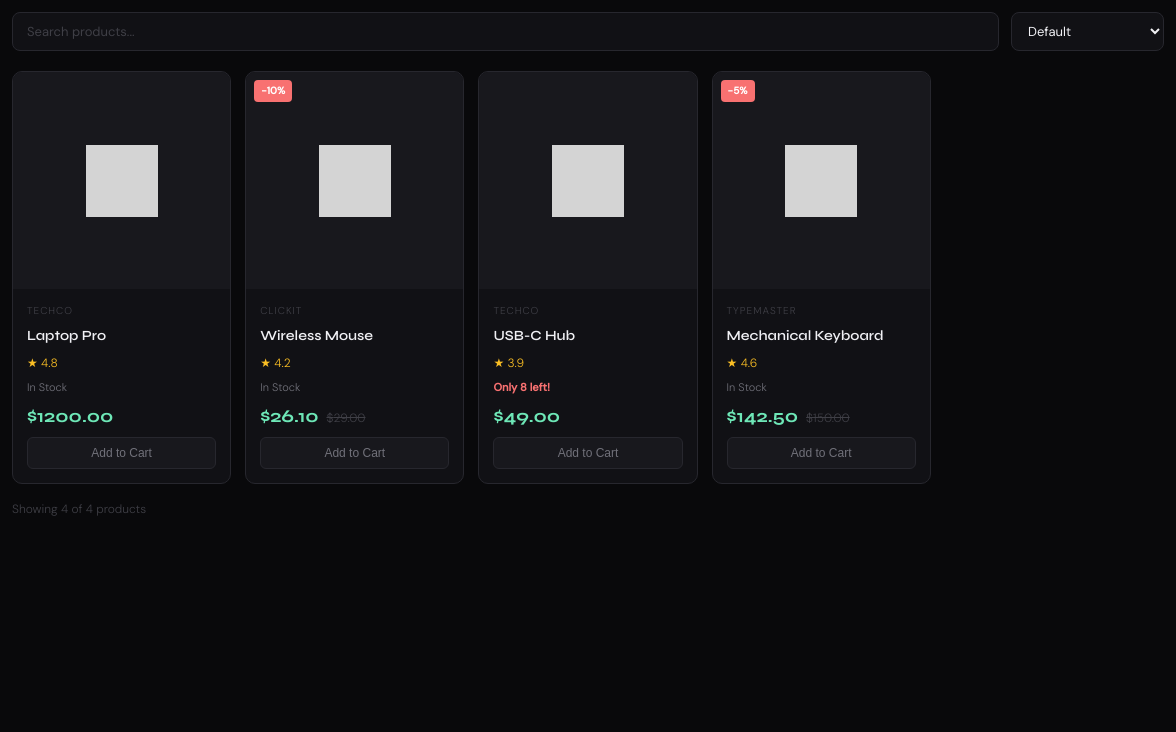
Test case: ProductList — Search Filtering › updates result count after filtering
Type "Mouse" into the field with test id "search-input".
click(506, 32); type("Mouse")  # box [12,12,999,51]
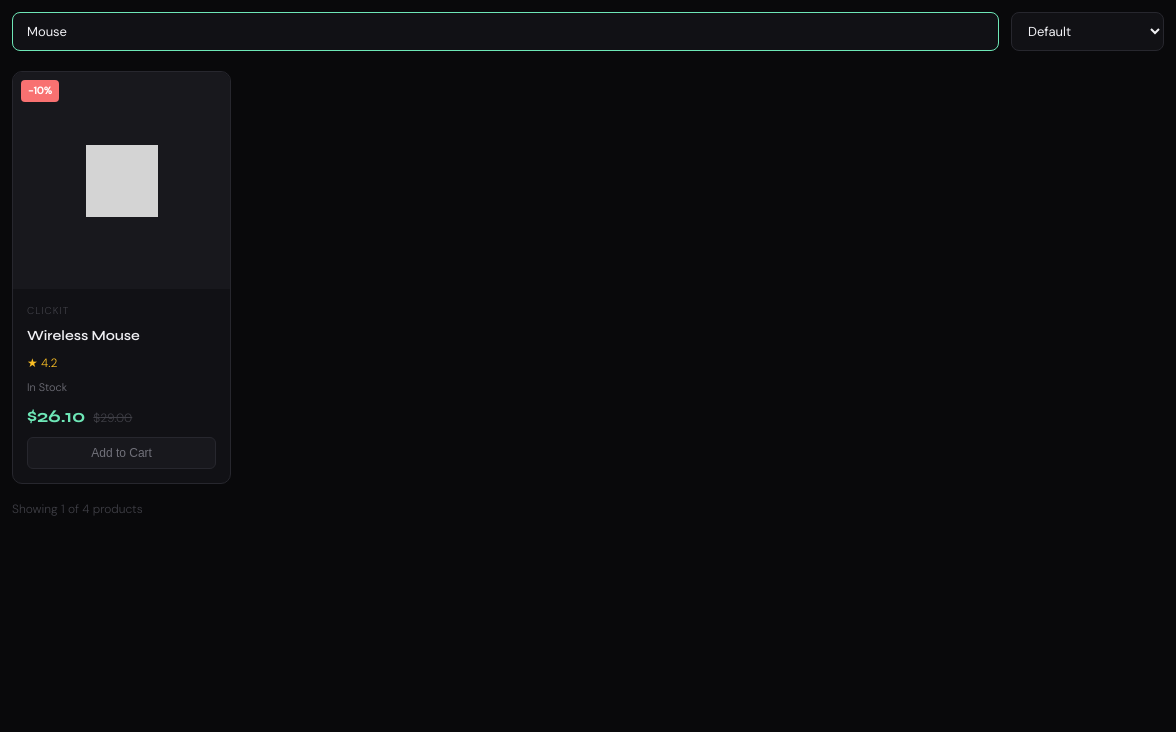
Expected: the text with test id "result-count" shows "Showing 1 of 4", [12,501,143,517]
